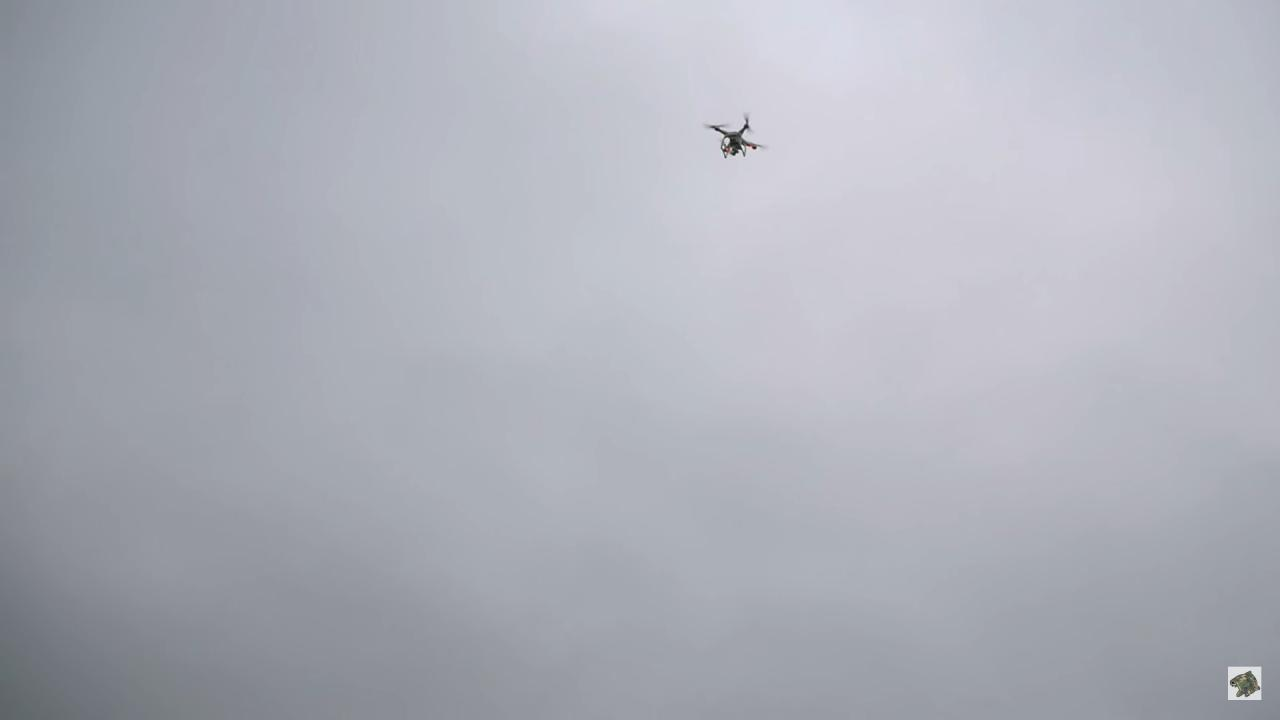Drone: (699, 105, 773, 172)
